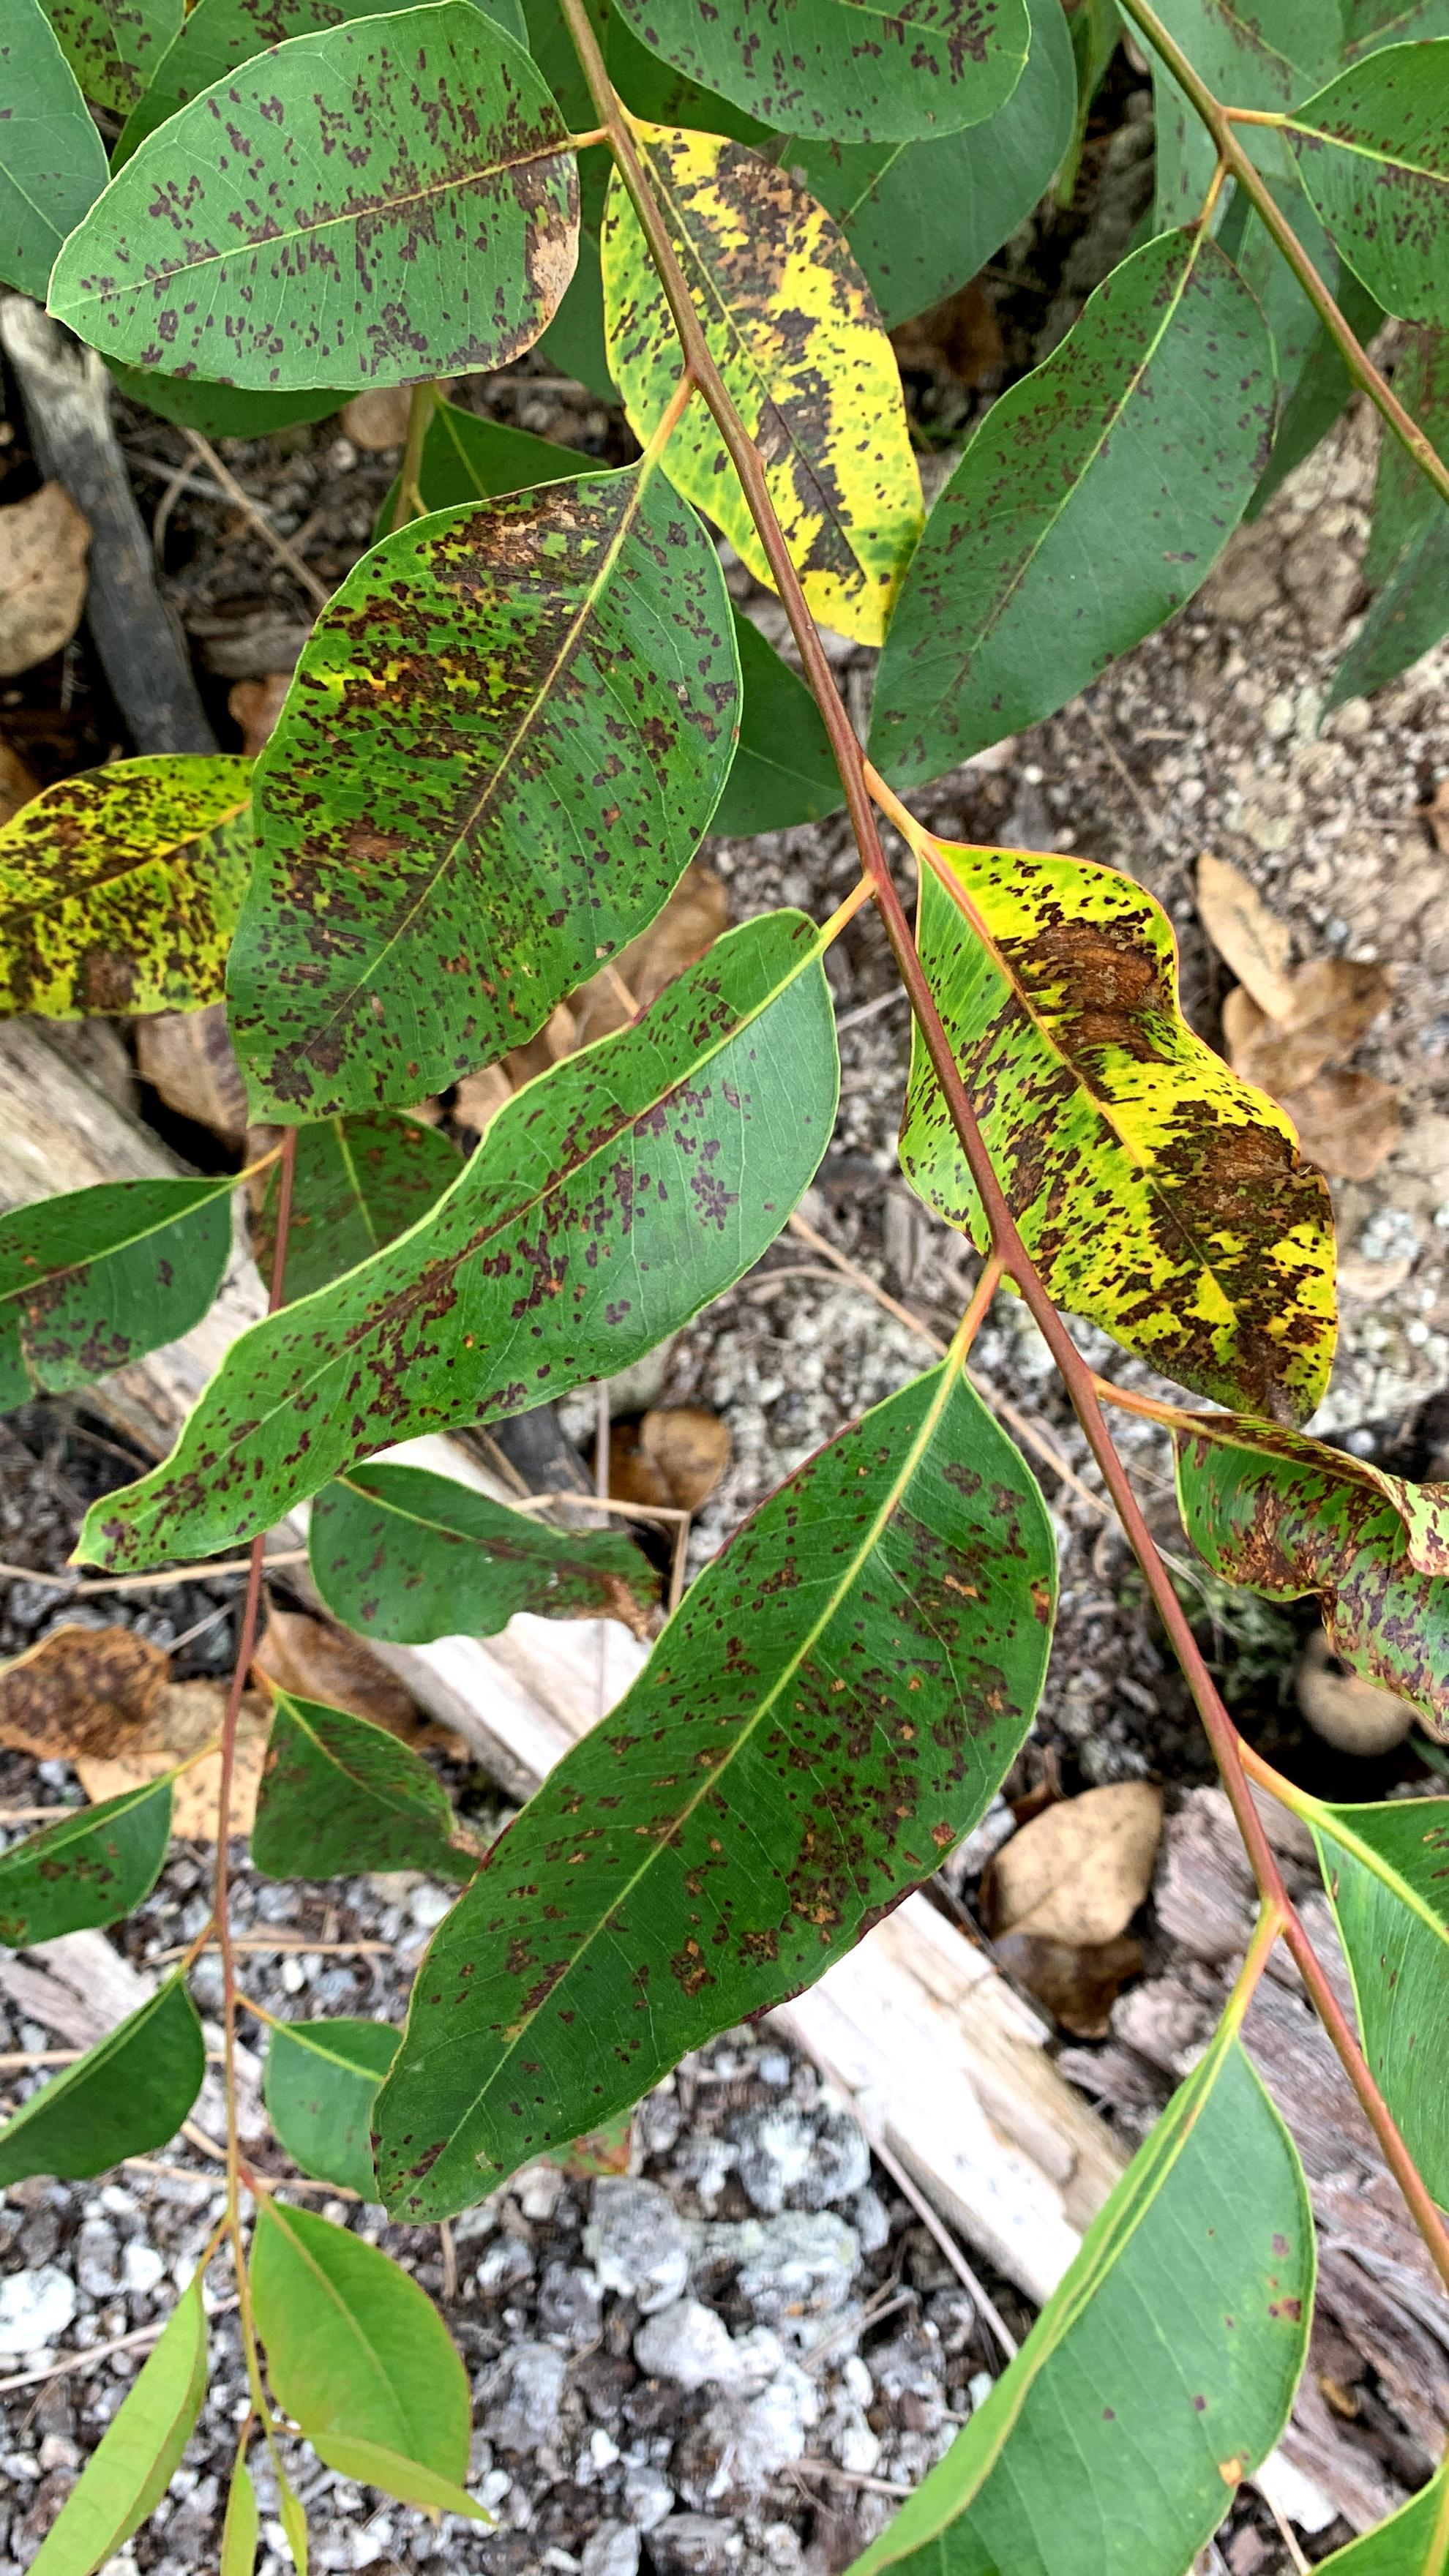Xanthomonas: (370, 1387, 1058, 2268), (80, 934, 828, 1598), (249, 506, 722, 1115), (893, 824, 1345, 1428), (876, 242, 1246, 782), (85, 27, 586, 393), (602, 143, 938, 655), (1157, 1403, 1449, 1709), (0, 743, 260, 1017), (602, 0, 1023, 129), (1297, 99, 1449, 322), (0, 1798, 129, 2001)
